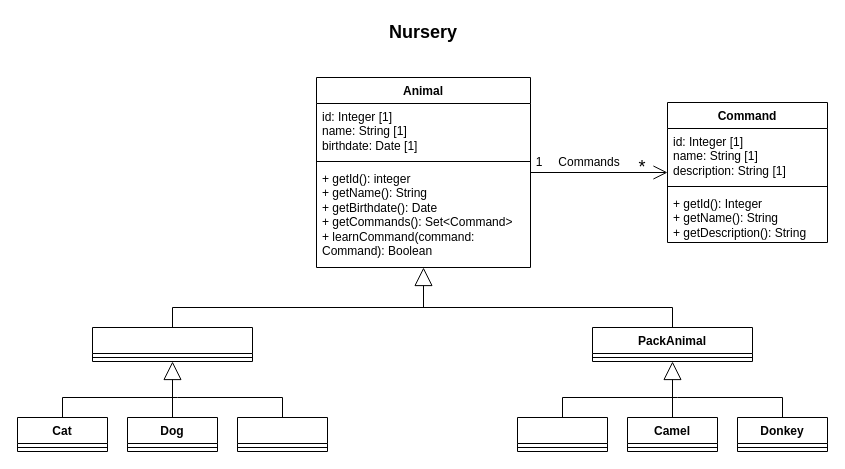
The diagram is 845 pixels wide and 469 high, and some of its shapes have lost their labels. Here are the shapes that lost their labels. From the top down, the centre of each, then its label:
(172,344): Pet
(282,434): Hamster
(562,434): Horse
